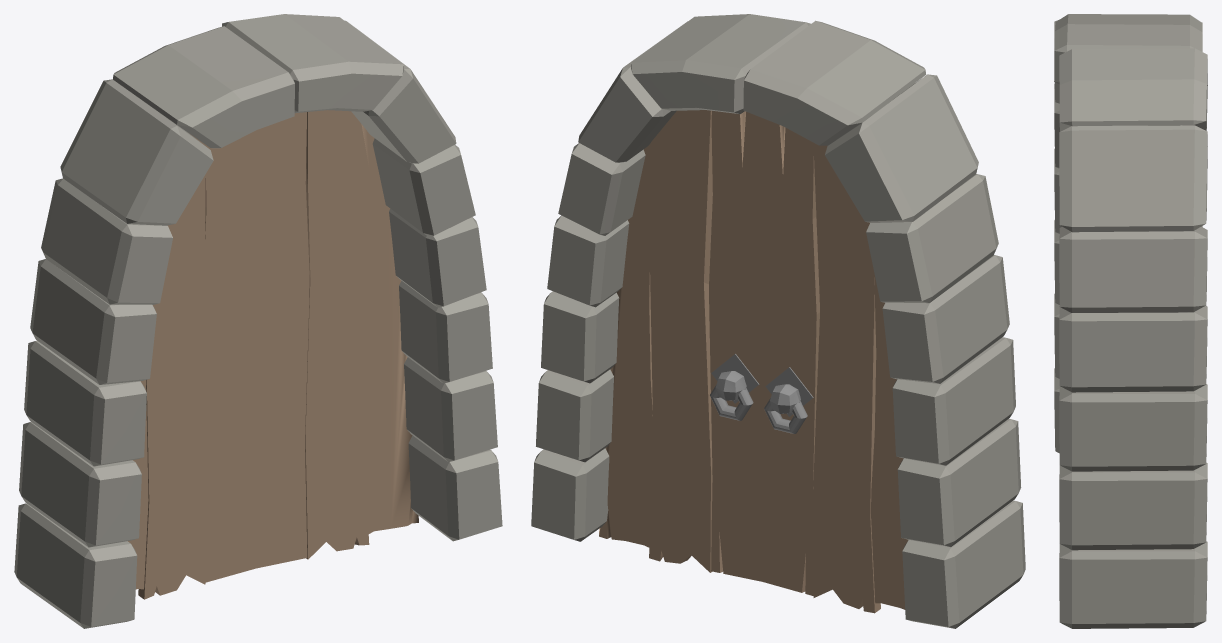
File: Входная дверь.fbx
The picture shows the model from 3 angles, left to right: view 1: azimuth 30°, elevation 25°; view 2: azimuth 150°, elevation 25°; view 3: azimuth 270°, elevation 25°; orthographic projection. The views are drawn at different scales.
Visible parts, largest first — view 1: Cube_023, Дверь_в_дом; view 2: Cube_023, Дверь_в_дом; view 3: Cube_023.
Boxes of the visible parts, x1,y1,x2,y2 form: Cube_023: (14, 14, 502, 628); Дверь_в_дом: (128, 110, 418, 599); Cube_023: (531, 14, 1025, 628); Дверь_в_дом: (599, 110, 908, 613); Cube_023: (1054, 14, 1207, 628).
Size of the model in its own units: 266 by 320 by 87.71.
